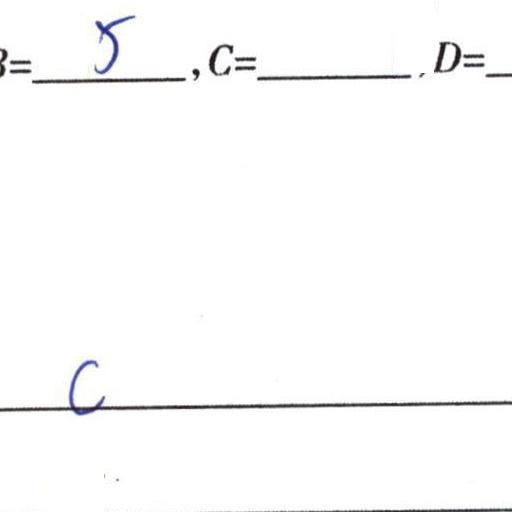ans: (88, 8, 136, 75), (60, 352, 108, 417)
